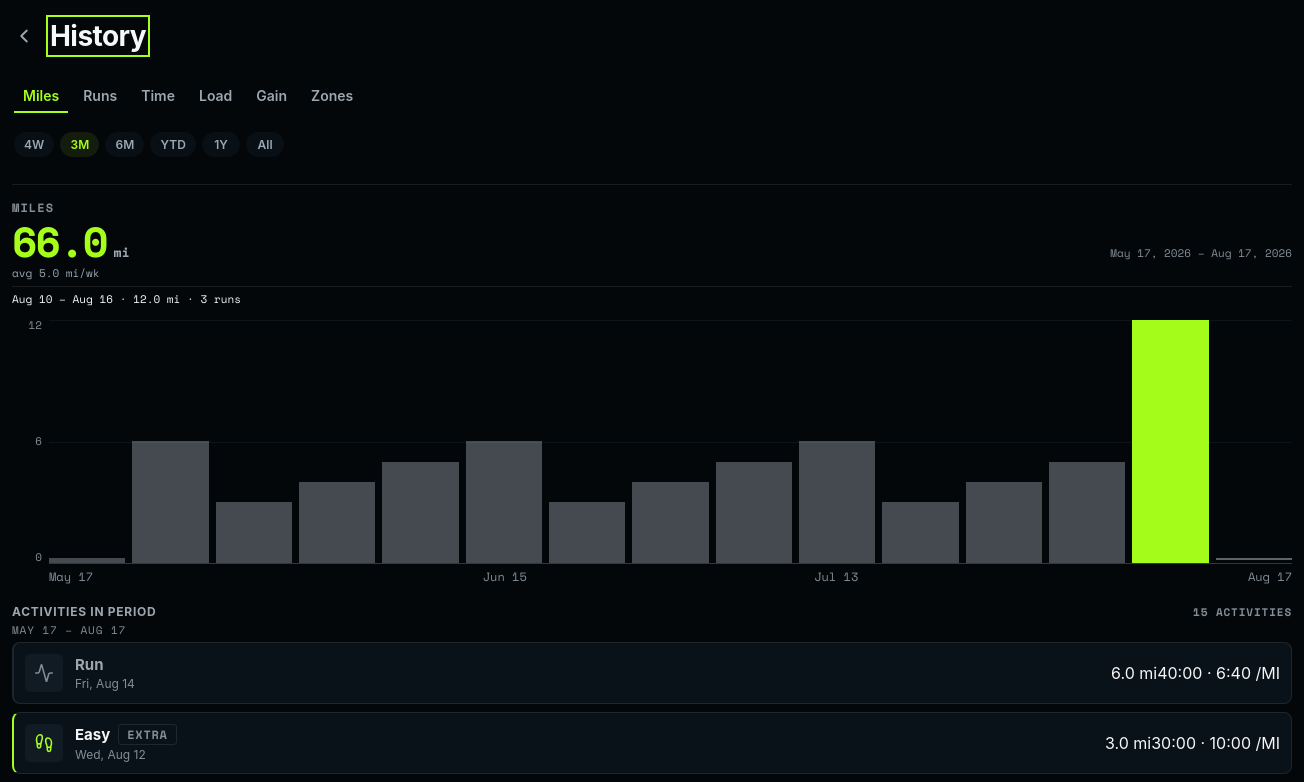
Test: History Explorer readout › keeps optional-metric coverage beside the result instead of implying a full total
Step 1. Click the tab "Load" → x=216, y=98, box [188,76,243,120]
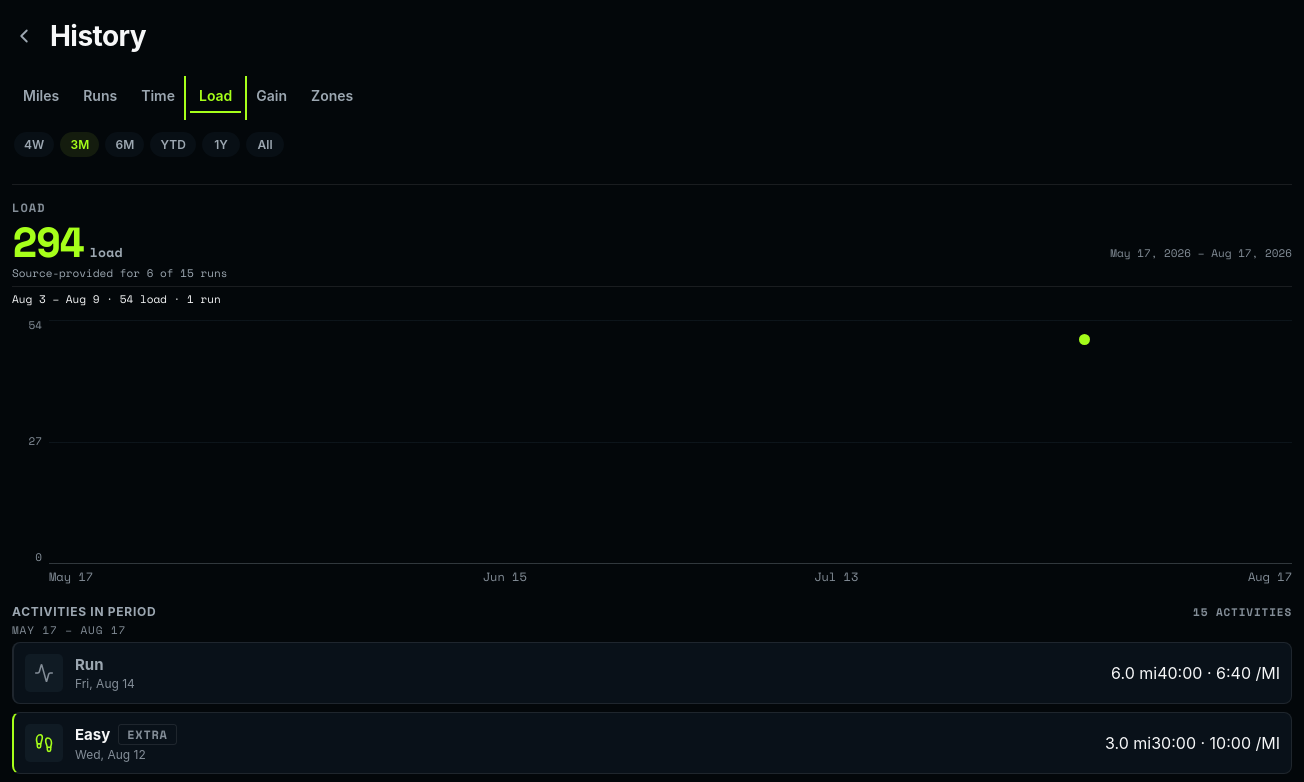
Check: the text with class "history-readout__context" reads "Source-provided for 6 of 15 runs", box [12,265,227,281]
